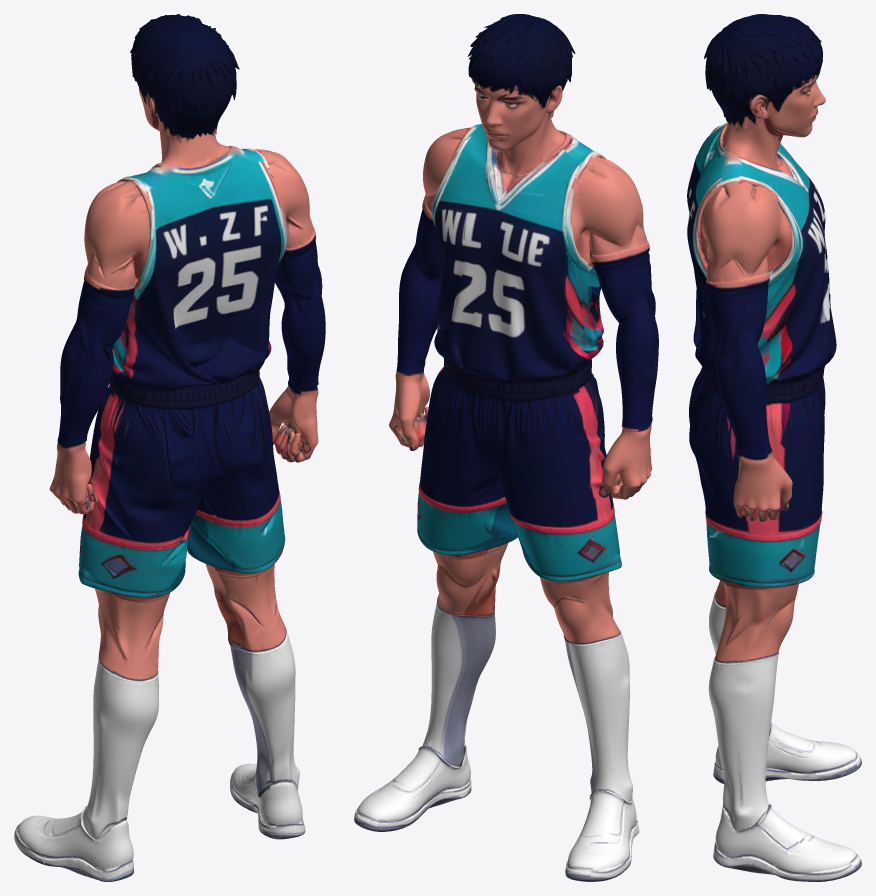
Rendered from 优化版.glb.
3 views of the same model, side by side, from view 1: azimuth 30°, elevation 25°; view 2: azimuth 150°, elevation 25°; view 3: azimuth 270°, elevation 25° (orthographic). The views are drawn at different scales.
Parts seen in each view (by area): view 1: node_0; view 2: node_0; view 3: node_0.
Part boxes in pixels (x1,y1,x2,y2): node_0: (14,14,325,881); node_0: (354,14,658,881); node_0: (687,14,861,881).
Size of the model in its own units: 0.3821 by 1.14 by 0.2249.
Materials: 1 (1 with a texture image).
